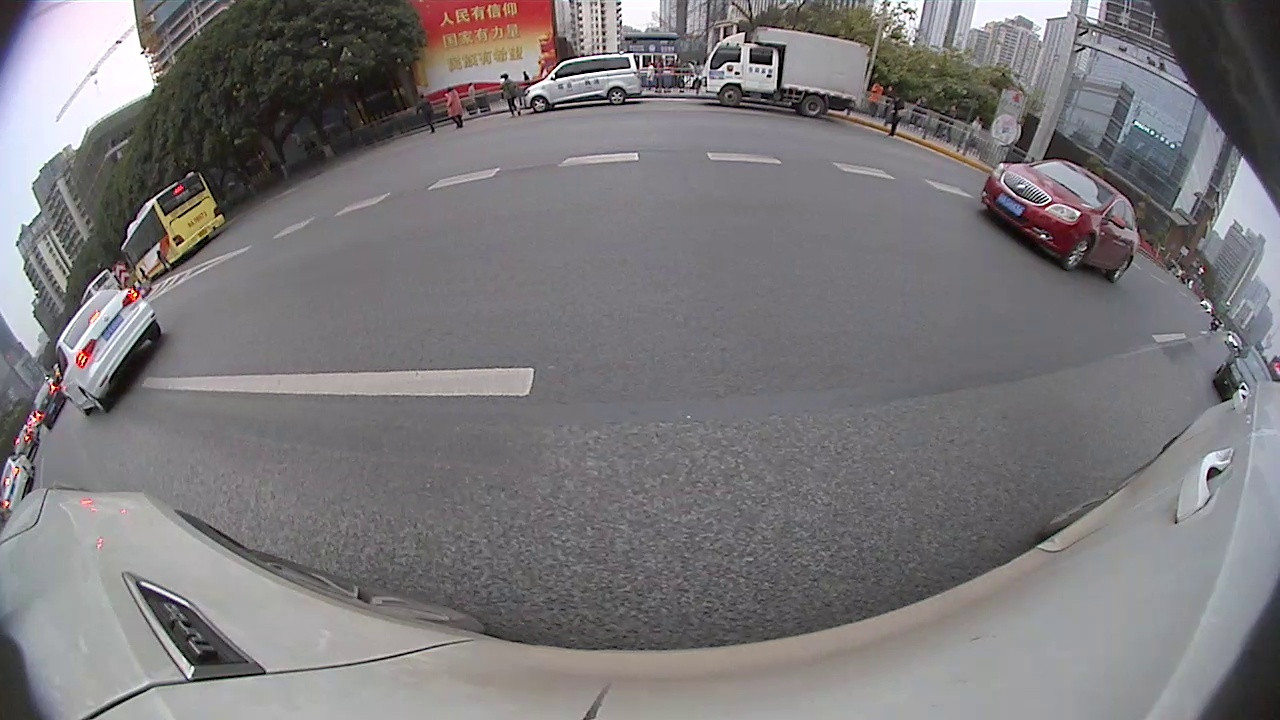bus: (118, 169, 225, 281)
car: (981, 157, 1142, 284), (53, 284, 164, 418), (524, 51, 643, 113), (1211, 343, 1273, 400), (29, 384, 68, 431), (3, 452, 30, 508)
front: (1064, 236, 1092, 273), (719, 86, 741, 107), (531, 97, 547, 113)
person: (445, 85, 458, 130), (418, 93, 430, 134), (503, 75, 513, 118), (893, 97, 903, 139), (872, 81, 881, 119)
rear: (1112, 256, 1138, 286), (803, 95, 823, 119), (608, 89, 626, 106)
truck: (704, 25, 873, 118)
